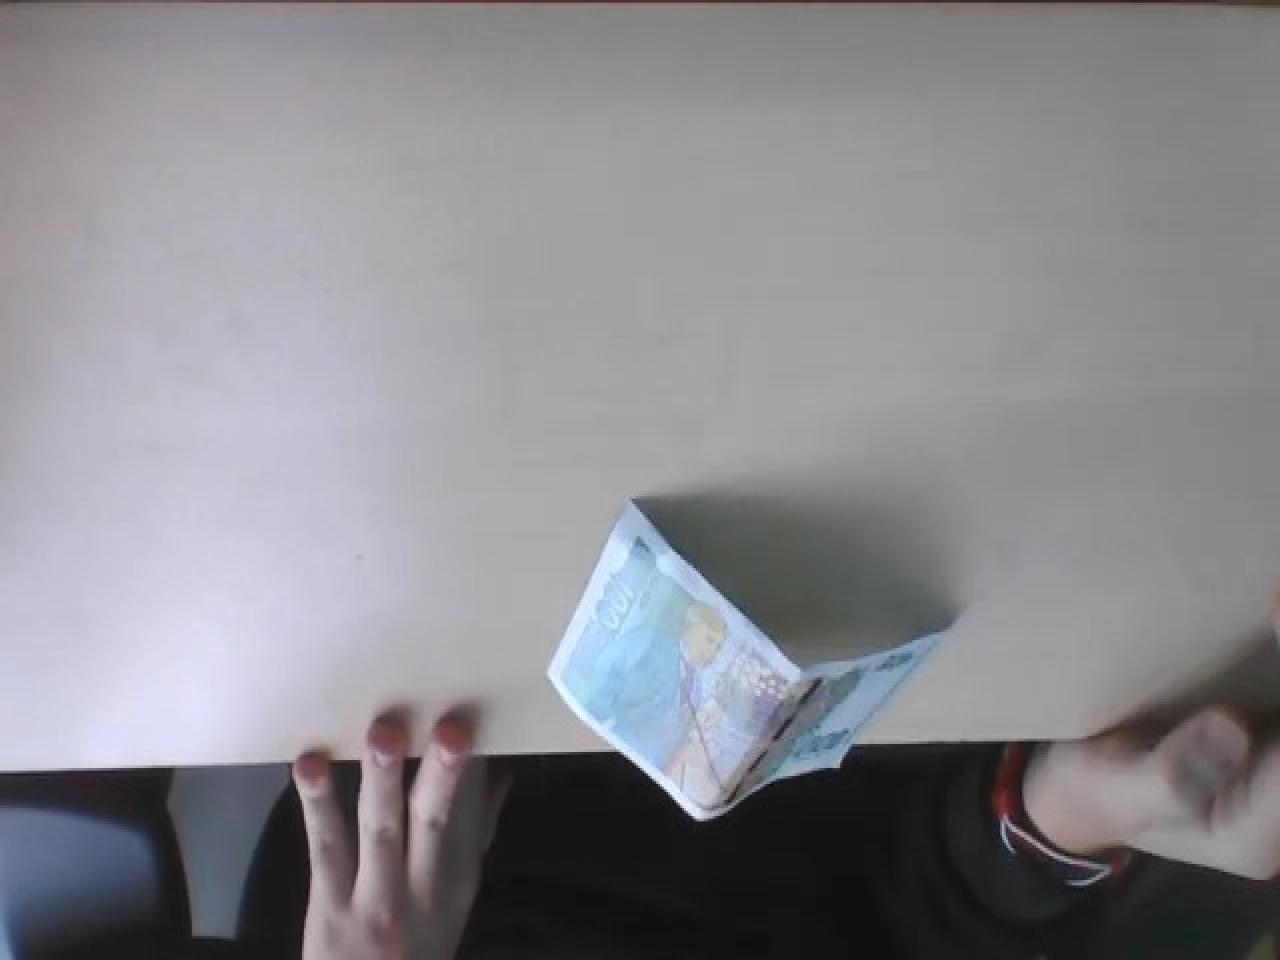100leva: (544, 498, 954, 827)
